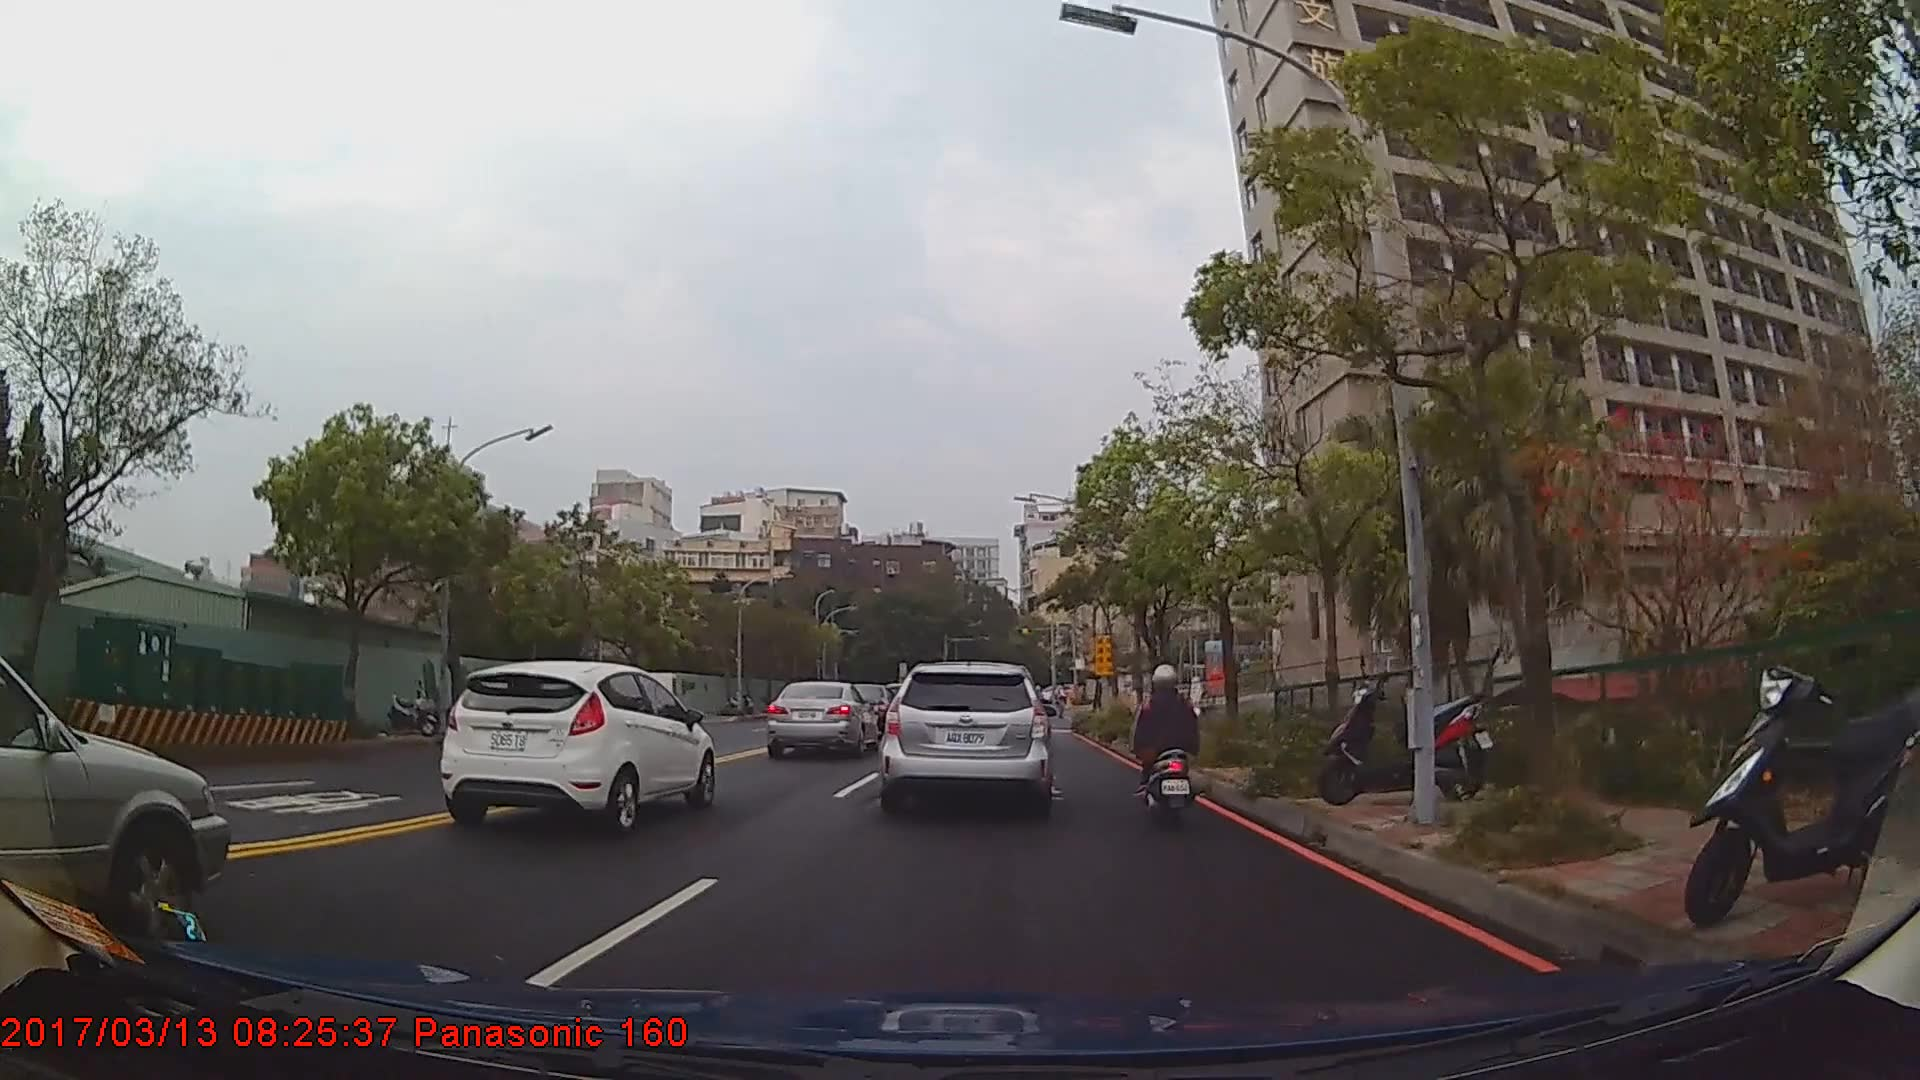rider: (1134, 666, 1200, 830)
vehicle: (0, 658, 227, 940), (438, 658, 716, 834), (881, 661, 1050, 818), (763, 680, 880, 758)
